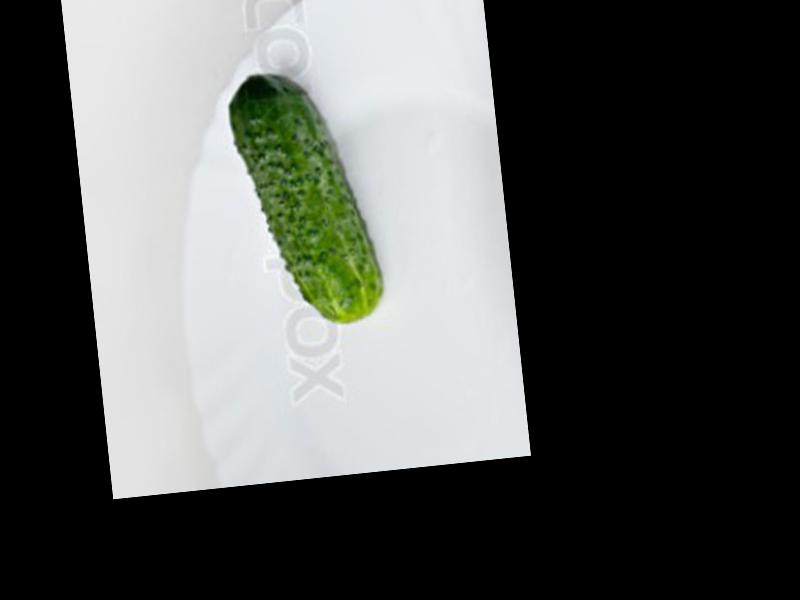Cucumber: (226, 67, 386, 331)
